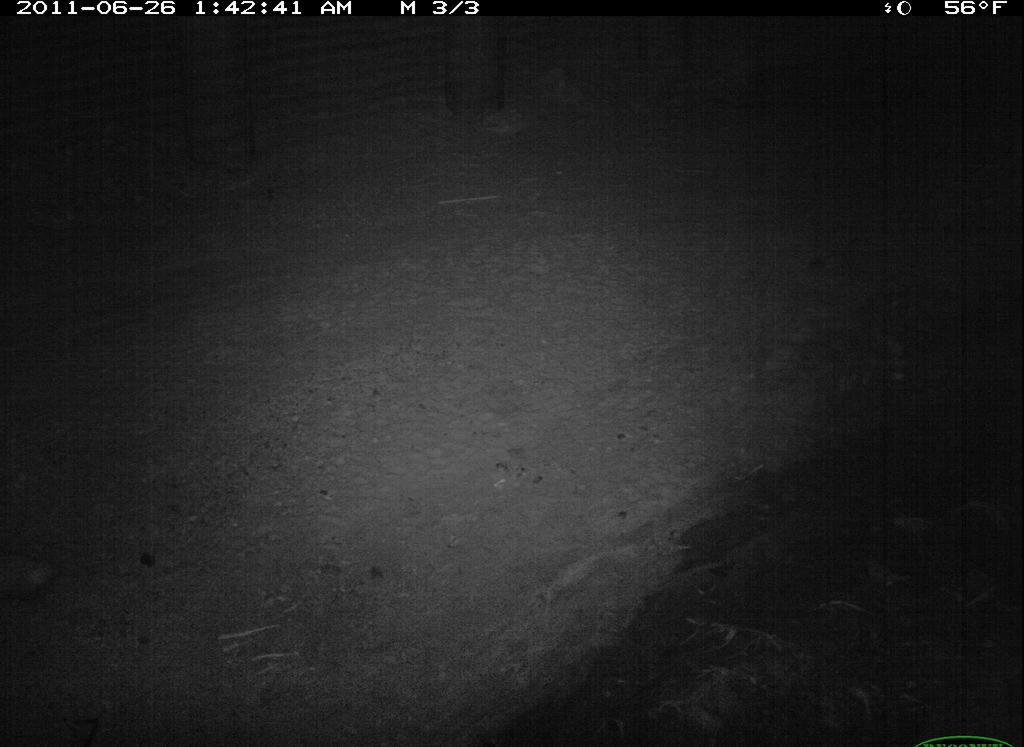opossum: (1, 536, 107, 613)
